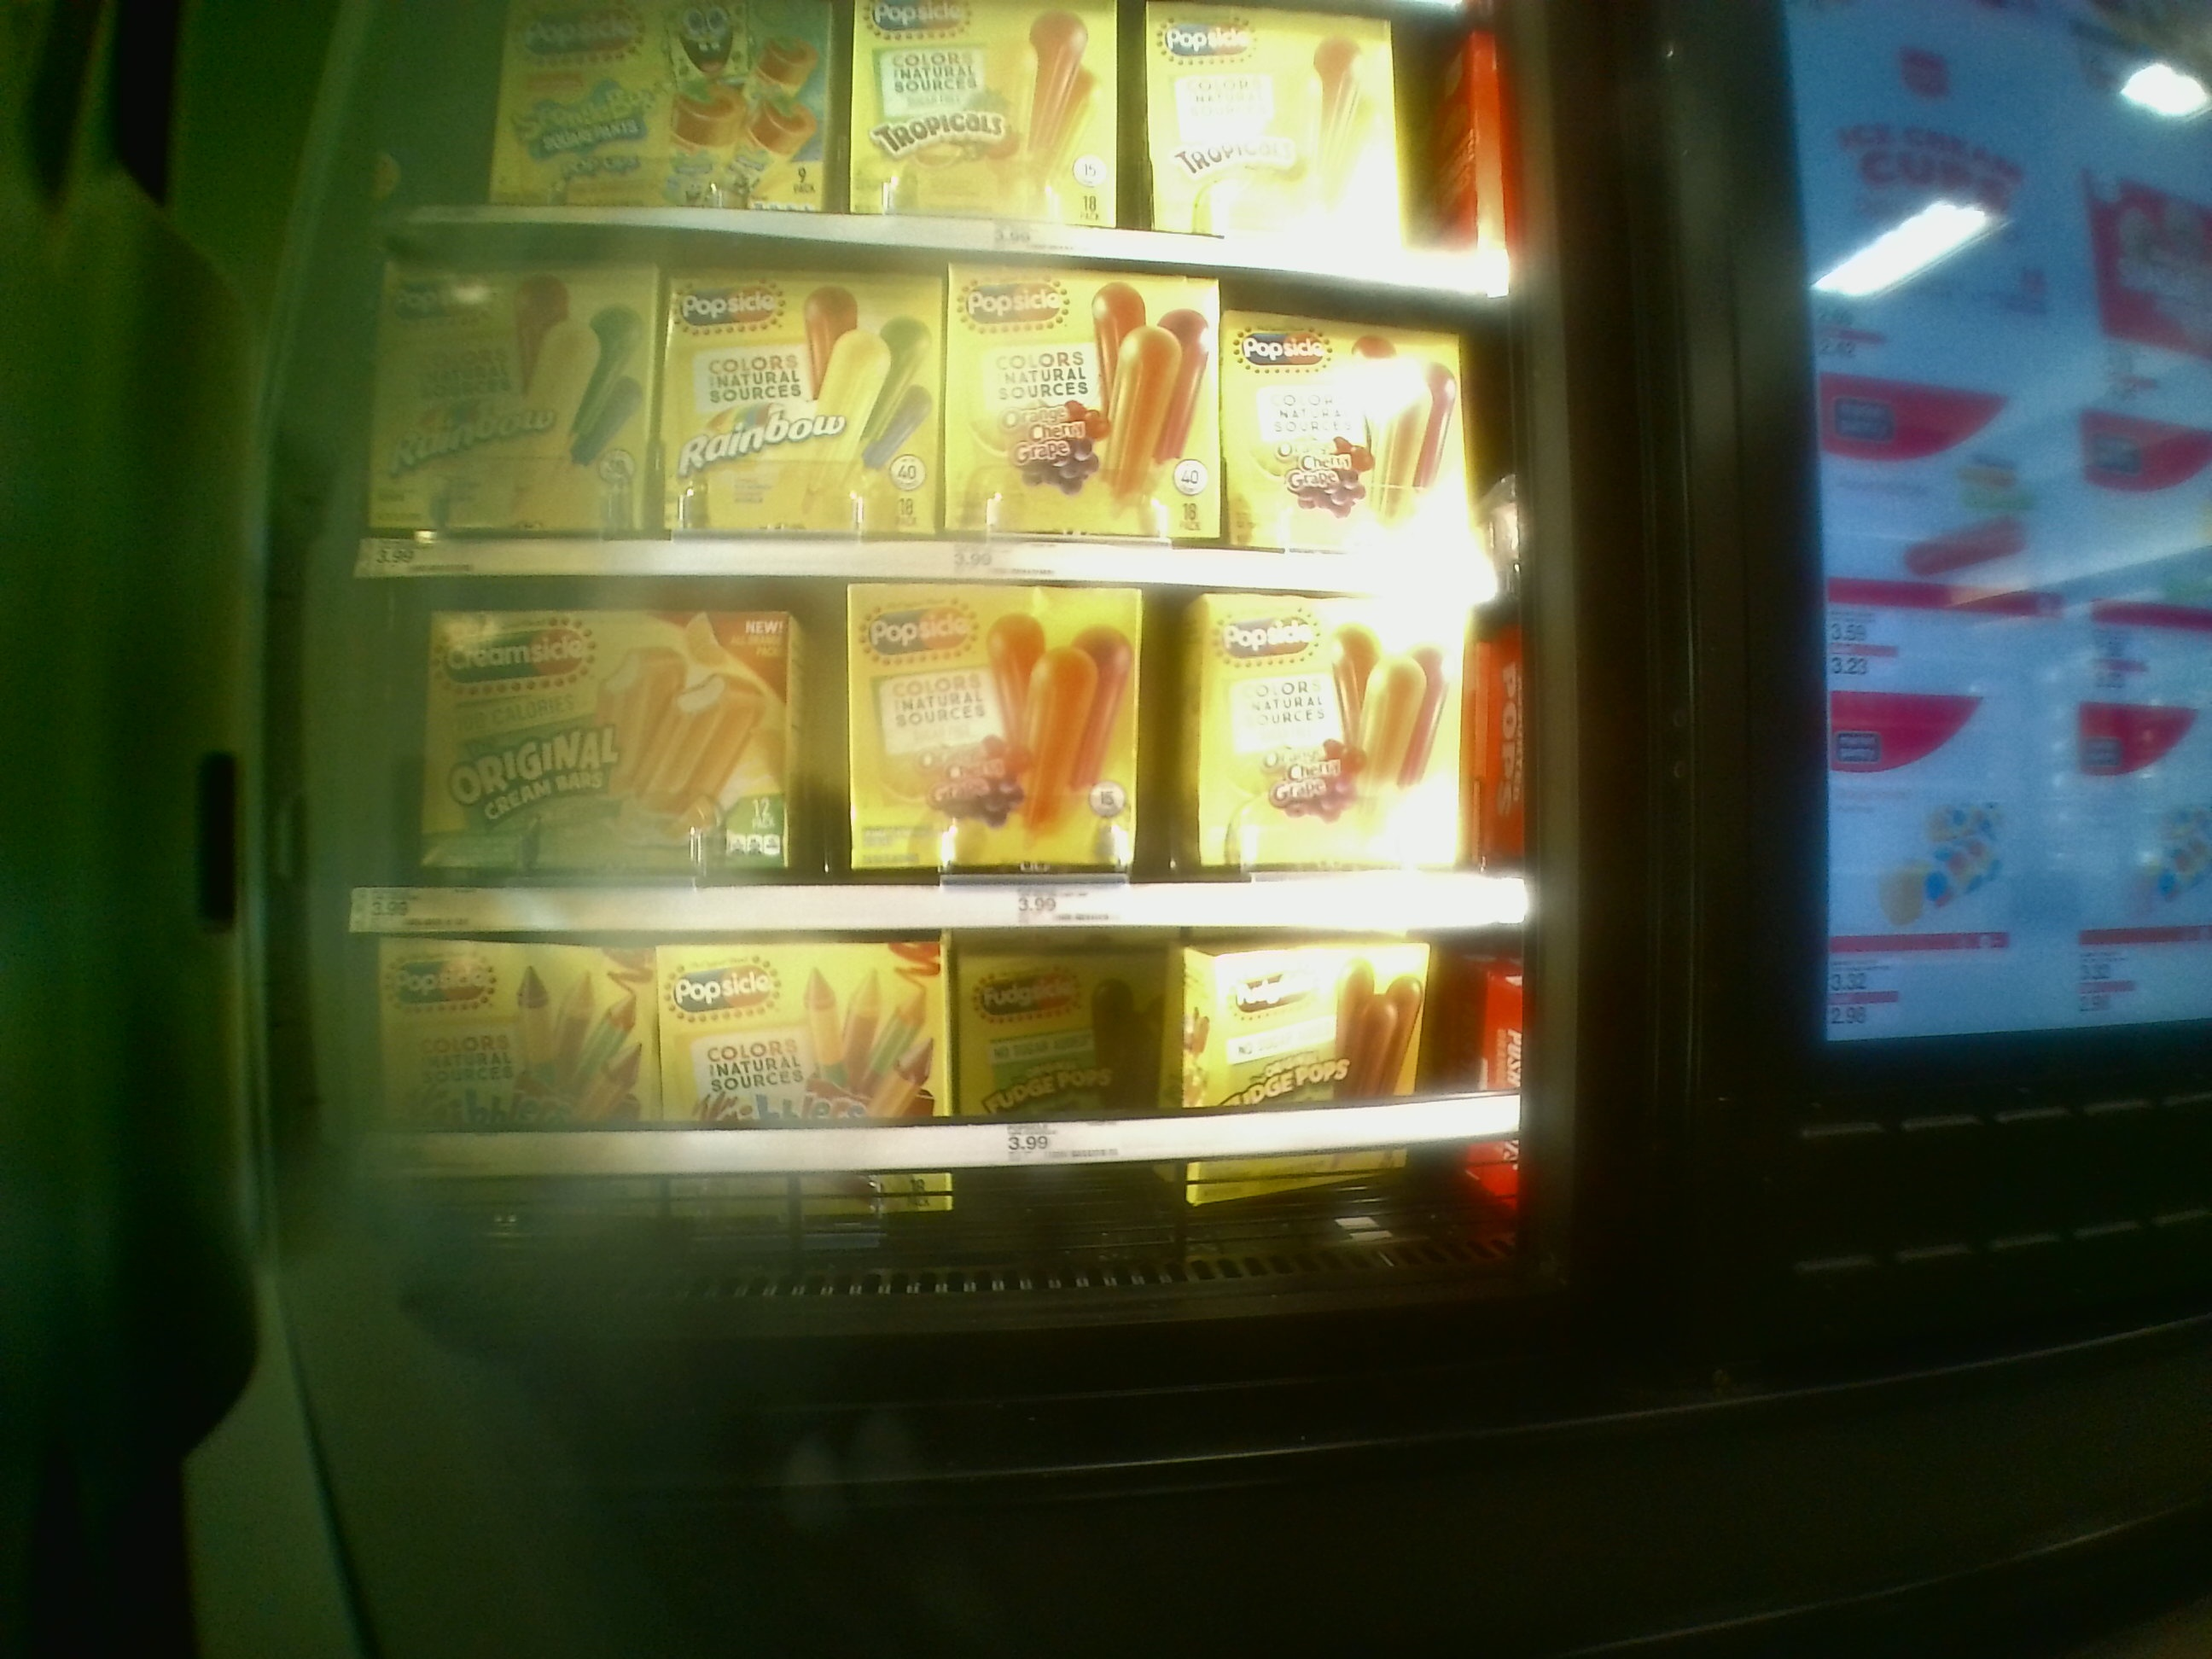shelf: (369, 918, 1543, 1291), (348, 563, 1533, 924)
